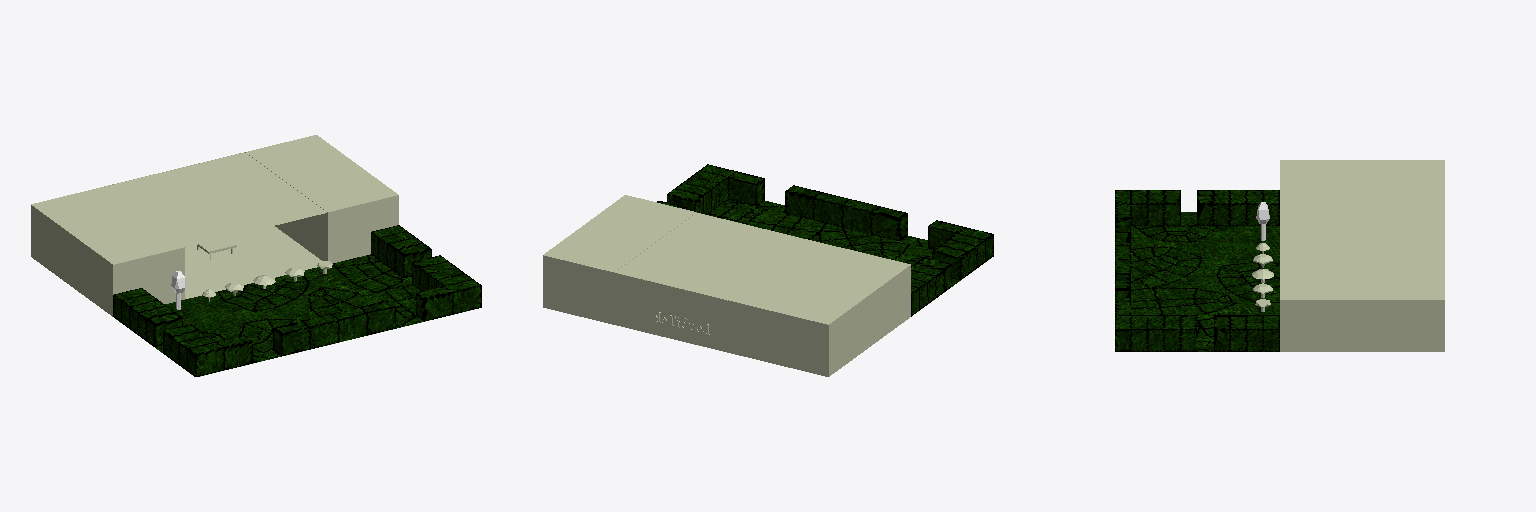
The picture shows the model from 3 angles: view 1: azimuth 30°, elevation 25°; view 2: azimuth 150°, elevation 25°; view 3: azimuth 270°, elevation 25°; orthographic projection.
Parts seen in each view (by area): view 1: grid14, Mur1, Plafond, Mur2, Sol; view 2: grid14, Mur1, Plafond, Mur2, Mur3; view 3: grid14, Mur2, Plafond, Mur1.
Part boxes in pixels (x1,y1,x2,y2): grid14: (113,225,481,376); Mur1: (31,187,184,316); Plafond: (103,153,326,246); Mur2: (245,135,398,263); Sol: (185,226,321,298); grid14: (657,164,993,316); Mur1: (757,247,910,376); Plafond: (615,213,838,306); Mur2: (543,195,696,324); Mur3: (614,273,756,359); grid14: (1115,190,1279,351); Mur2: (1280,265,1444,351); Plafond: (1280,195,1444,264); Mur1: (1280,160,1444,194).
Size of the model in its own units: 40.01 by 7.01 by 40.1.
5 materials, 1 textured.